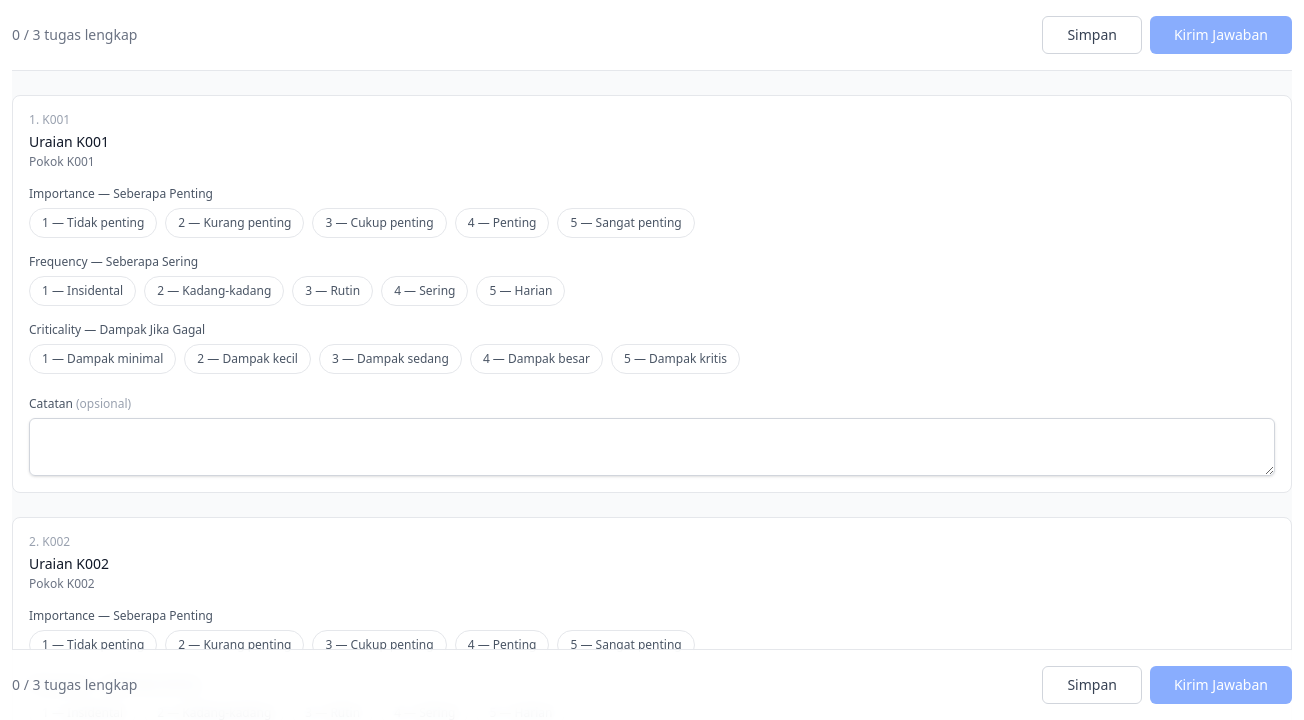
Test: OpmForm — 'Simpan' menyimpan rating parsial tanpa syarat kelengkapan (issue #56) › PUT gagal: toast.error dipanggil dan tidak ada notifikasi sukses palsu
Click the radio button named "K001-importance" at point(502, 223), box [455,208,550,238]
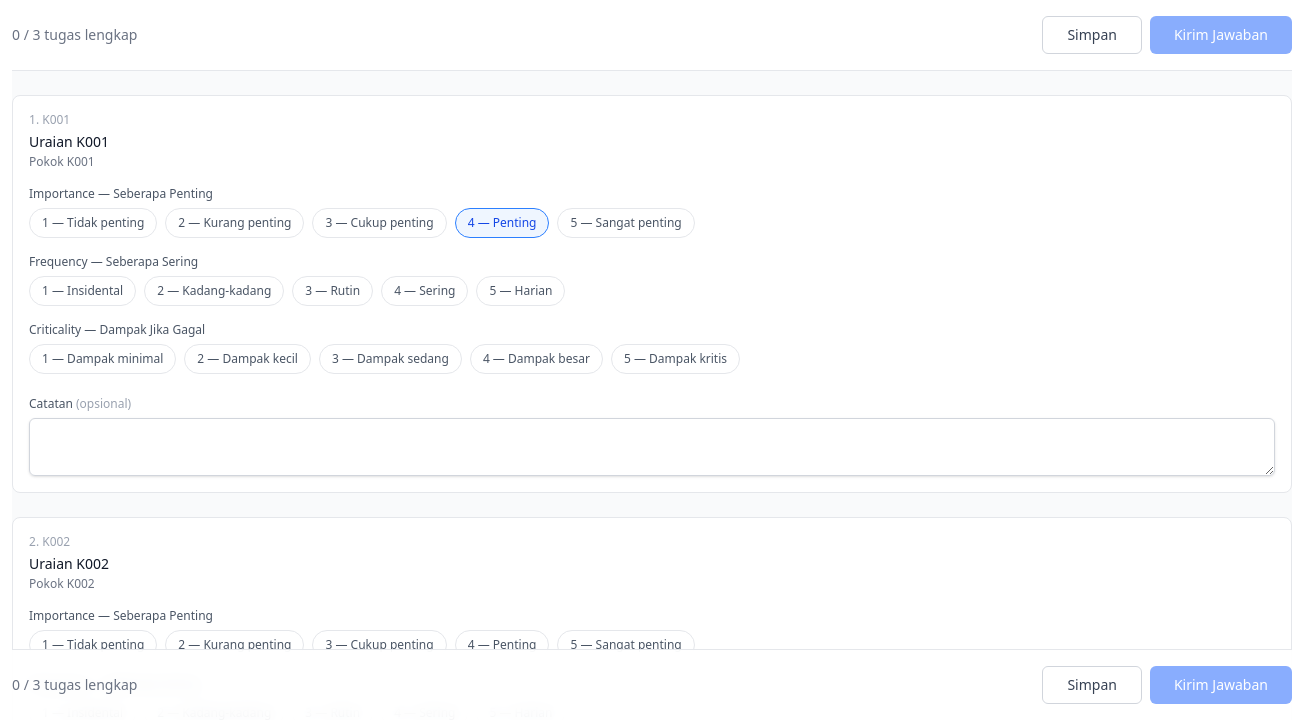
Click the 1st radio button labelled "4 — Sering" at point(425, 291), box [381,276,468,306]
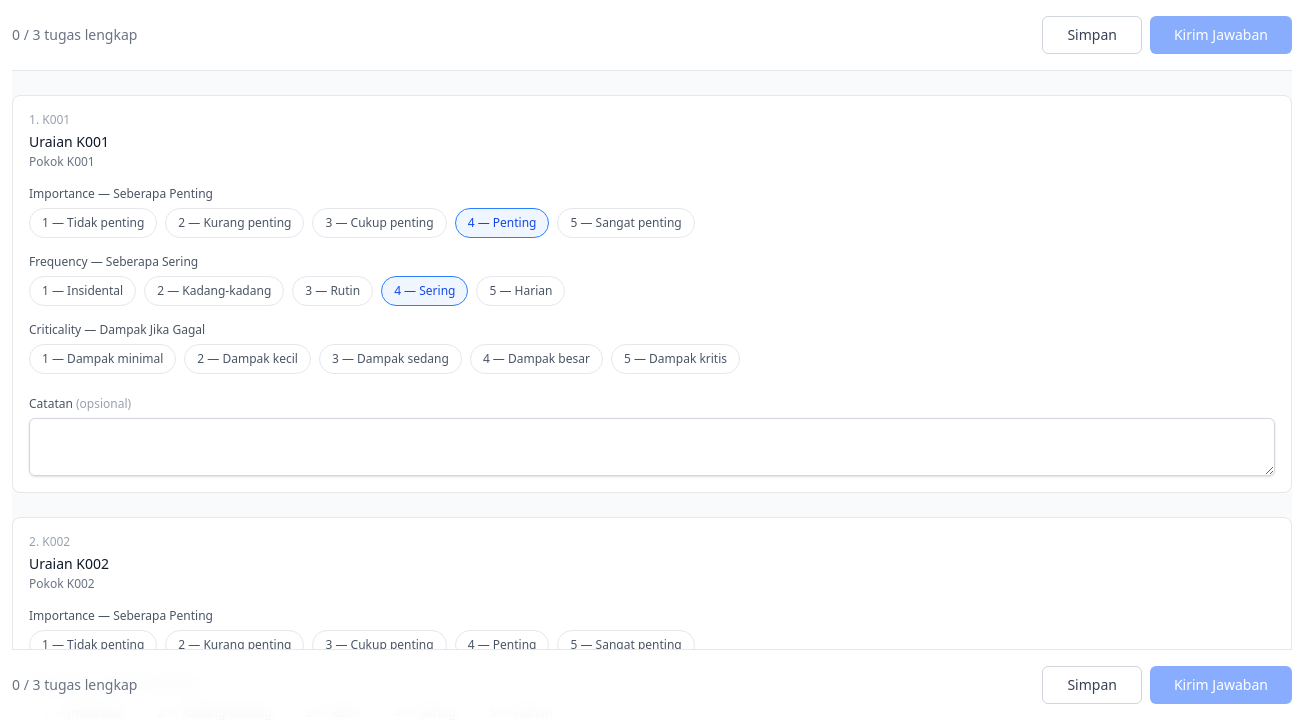
Click the radio button labelled "4 — Dampak besar" at point(536, 359), box [470,344,603,374]
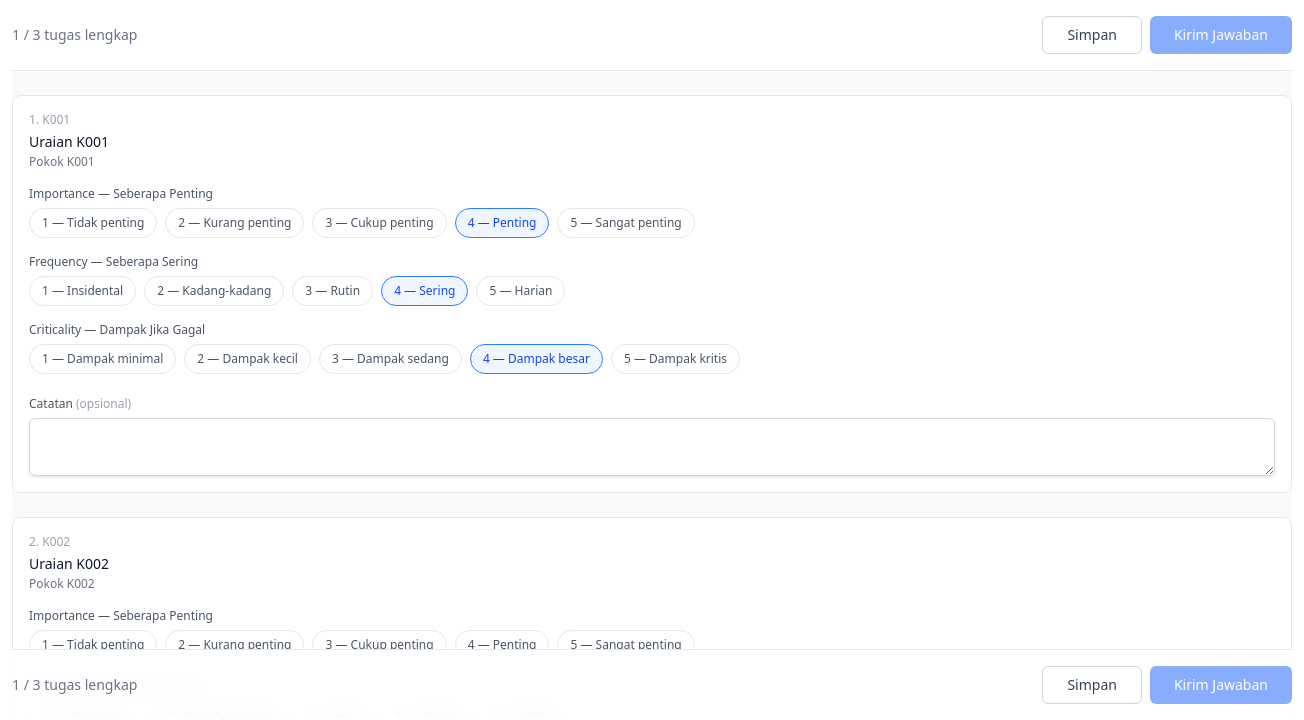
Click the 1st button "Simpan" at point(1092, 35), box [1042,16,1142,54]
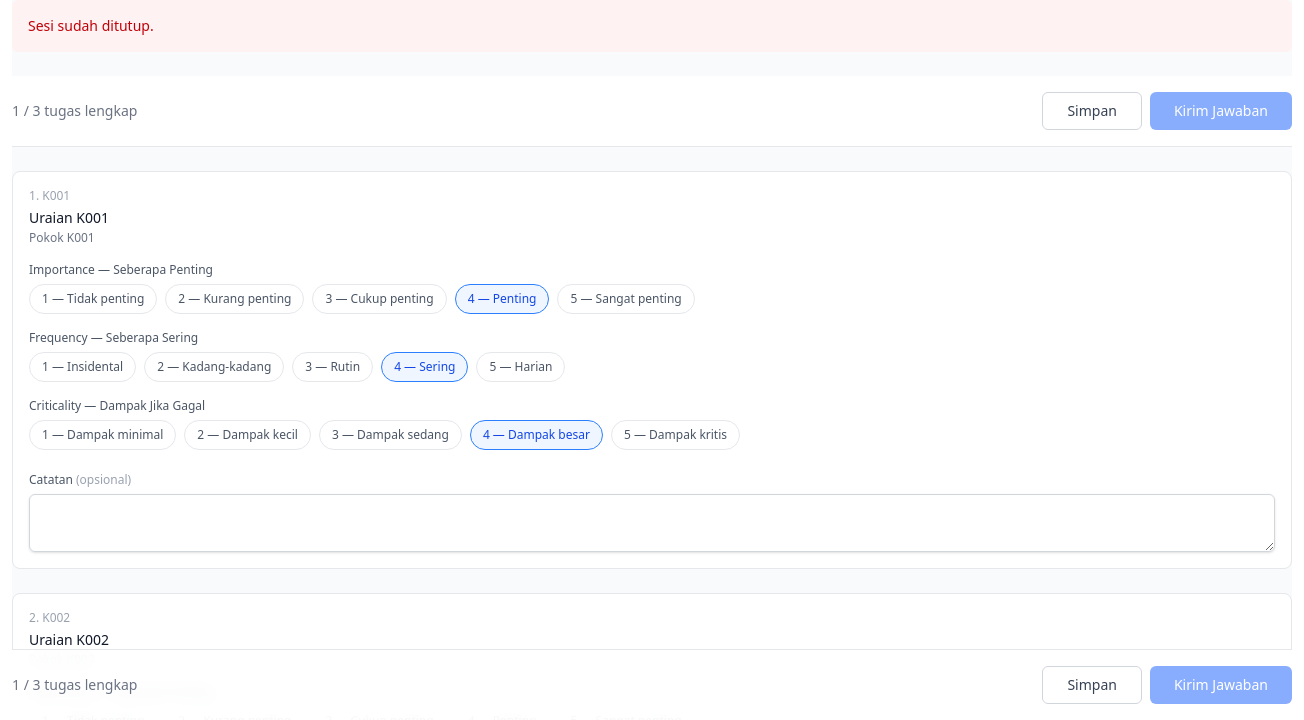
Expected: the message reads "Sesi sudah ditutup.", [28,16,154,35]
